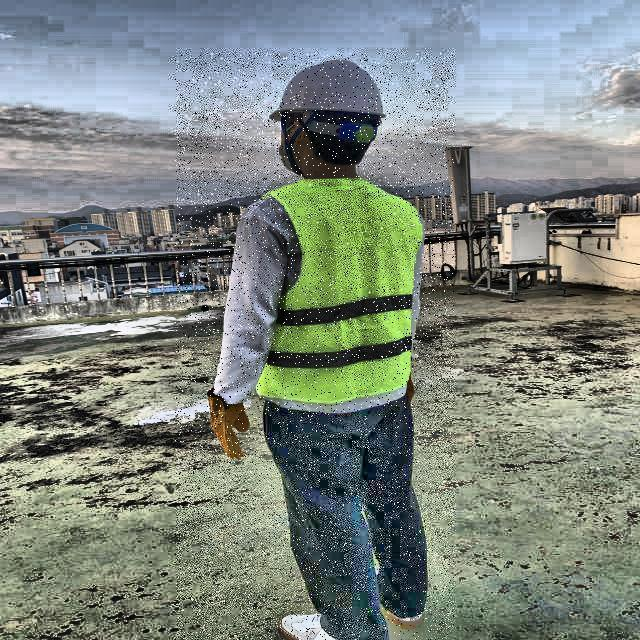safety_helmet: (267, 59, 387, 120)
safety_jacket: (258, 177, 424, 403)
